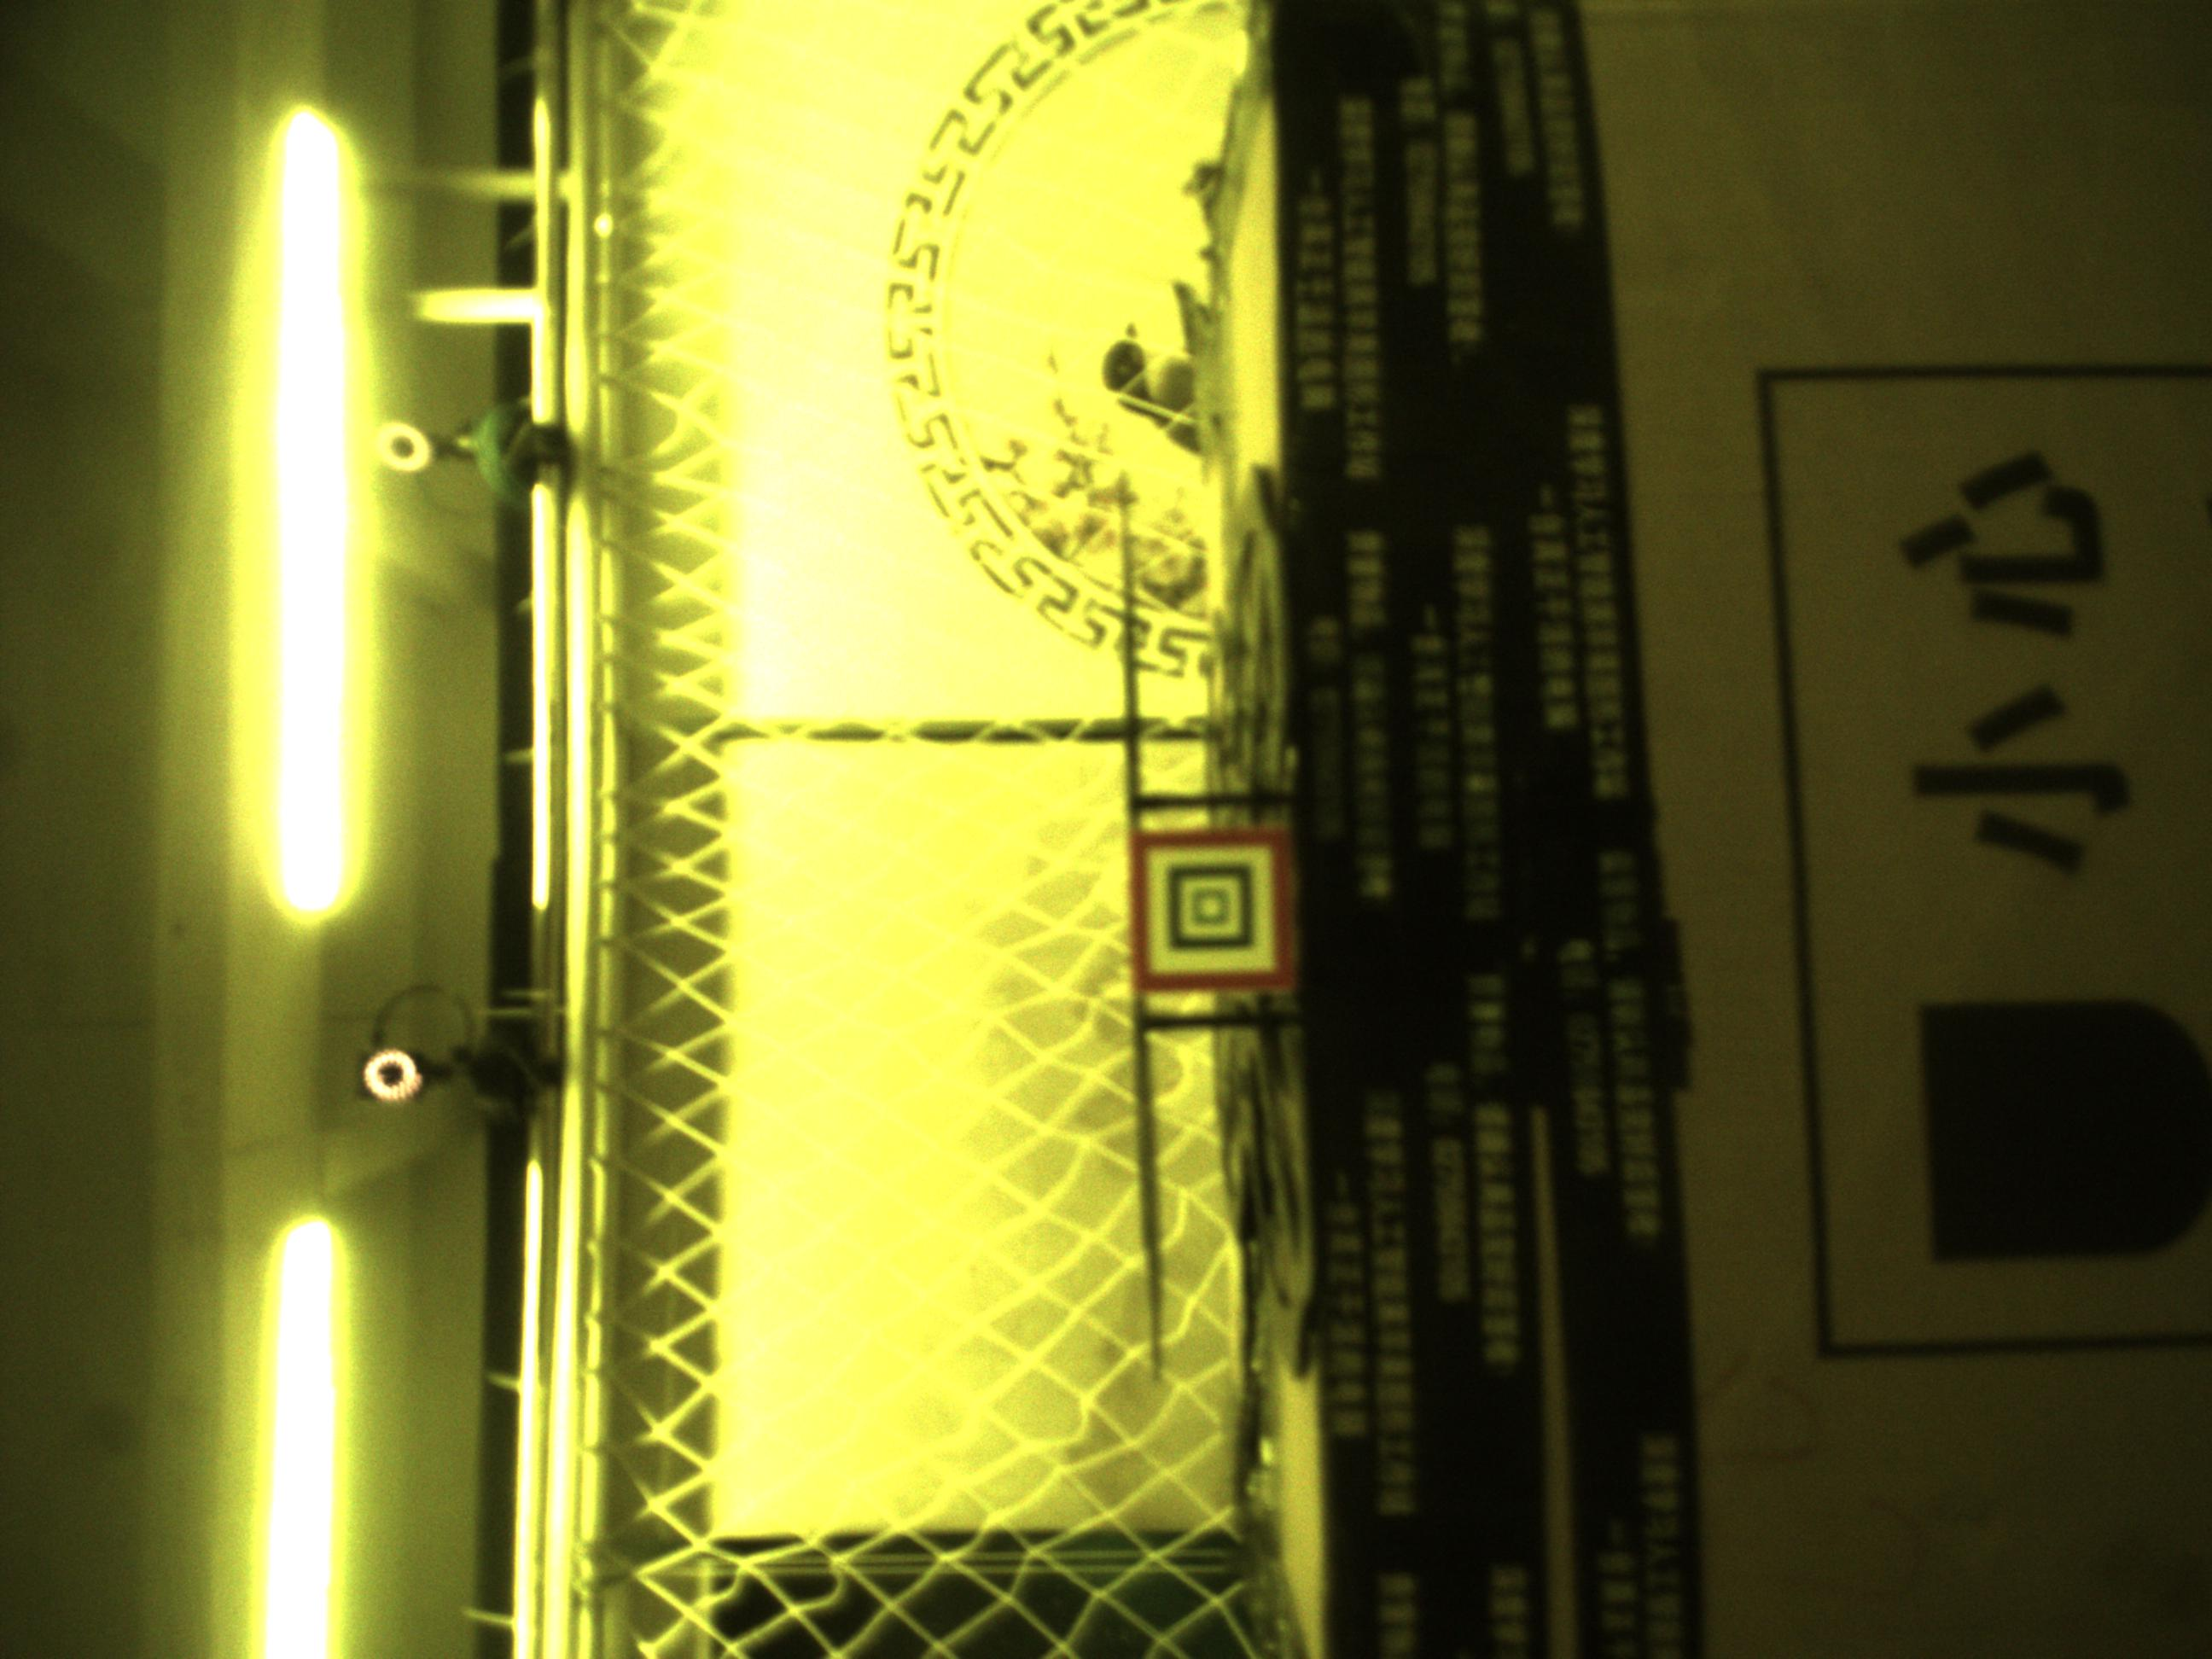outline: (1129, 829, 1294, 992)
